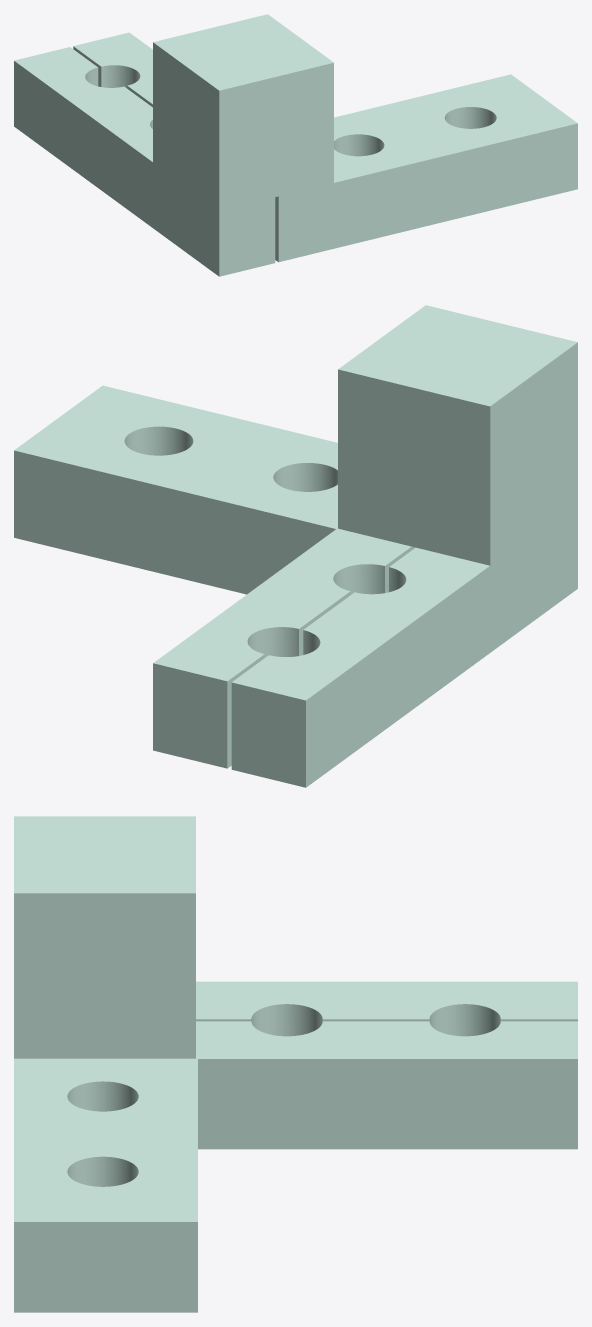
3 views of the same model, one above another, from view 1: azimuth 30°, elevation 25°; view 2: azimuth 150°, elevation 25°; view 3: azimuth 270°, elevation 25° (orthographic). The views are drawn at different scales.
Visible parts, largest first — view 1: Renderer Node; view 2: Renderer Node; view 3: Renderer Node.
Part boxes in pixels (x1,y1,x2,y2): Renderer Node: [14, 14, 577, 276]; Renderer Node: [14, 305, 577, 787]; Renderer Node: [14, 816, 577, 1312].
Bounding box in the file's own units: 0.7566 × 0.375 × 0.75.
